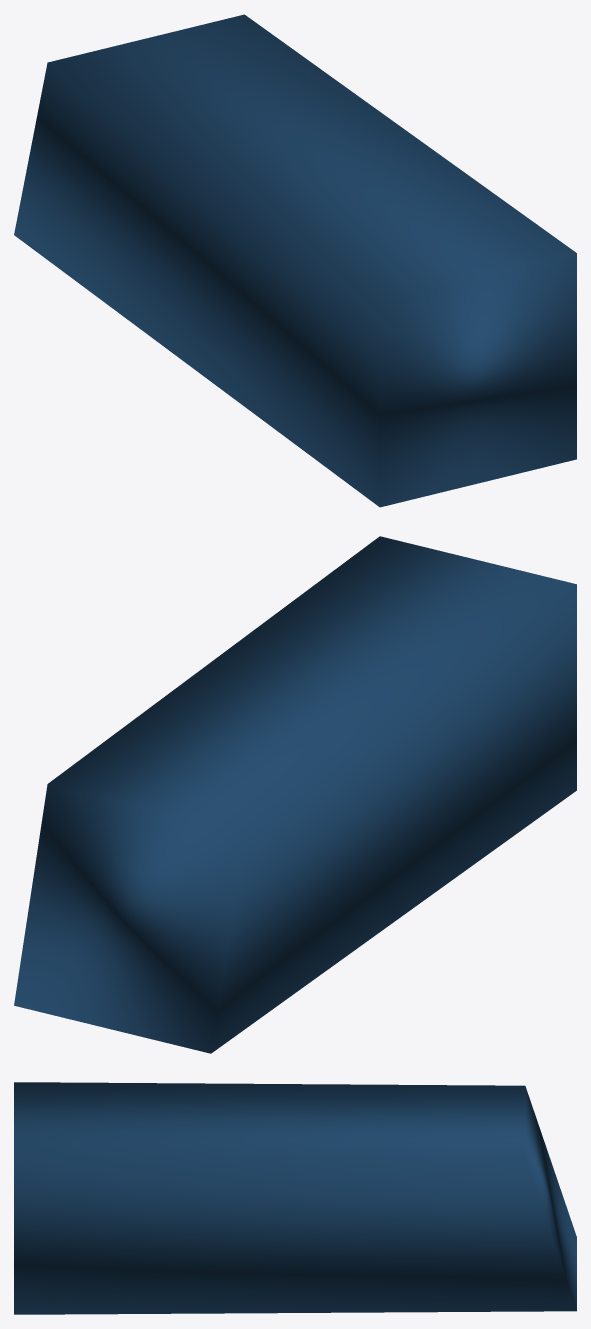
The model's file is B_Stone_02_Break_A.fbx.
The picture shows the model from 3 angles, top to bottom: view 1: azimuth 30°, elevation 25°; view 2: azimuth 150°, elevation 25°; view 3: azimuth 270°, elevation 25°; orthographic projection. The views are drawn at different scales.
Parts seen in each view (by area): view 1: B_Stone_02_Break_A; view 2: B_Stone_02_Break_A; view 3: B_Stone_02_Break_A.
Boxes of the visible parts, box(x1,y1,x2,y2) form: B_Stone_02_Break_A: box(14, 14, 576, 507); B_Stone_02_Break_A: box(14, 536, 576, 1053); B_Stone_02_Break_A: box(14, 1082, 576, 1314).
Size of the model in its own units: 35.46 by 35.46 by 114.
